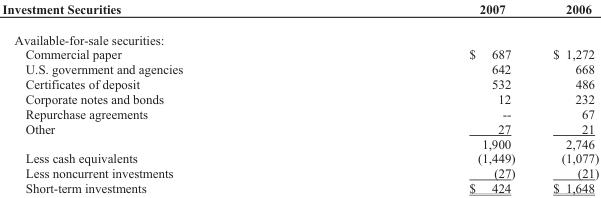table: (1, 1, 598, 194)
table column: (1, 1, 325, 194), (325, 1, 533, 194), (533, 1, 598, 194)
table column header: (1, 1, 598, 23)
table projected row header: (1, 23, 598, 46)
table row: (1, 23, 598, 46), (1, 1, 598, 23), (1, 46, 598, 61), (1, 61, 598, 76), (1, 76, 598, 91), (1, 91, 598, 106), (1, 120, 598, 135), (1, 135, 598, 150), (1, 150, 598, 165), (1, 165, 598, 180), (1, 106, 598, 120), (1, 180, 598, 194)
